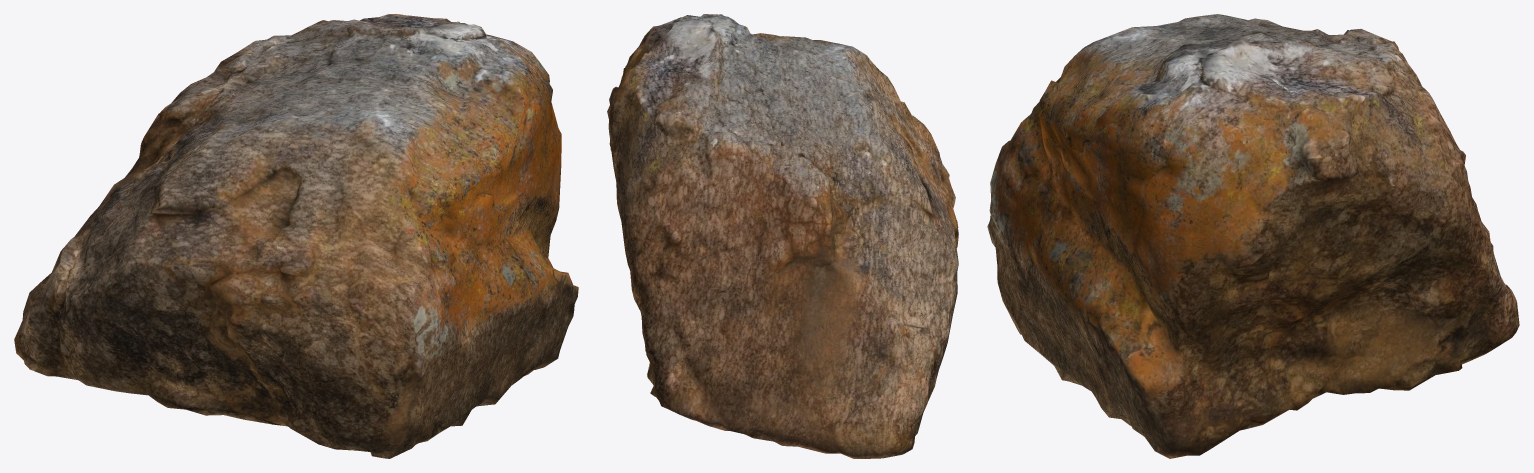
3 renders of one model, left to right at view 1: azimuth 30°, elevation 25°; view 2: azimuth 150°, elevation 25°; view 3: azimuth 270°, elevation 25°, orthographic. The views are drawn at different scales.
Visible parts, largest first — view 1: boulder_04; view 2: boulder_04; view 3: boulder_04.
Part boxes in pixels (x1,y1,x2,y2): boulder_04: (14,14,578,458); boulder_04: (607,14,958,458); boulder_04: (987,14,1519,458).
Bounding box in the file's own units: 2.52 × 1.9 × 2.49.
1 material, 1 textured.
